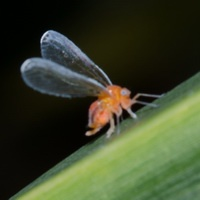insect: (20, 30, 161, 136)
